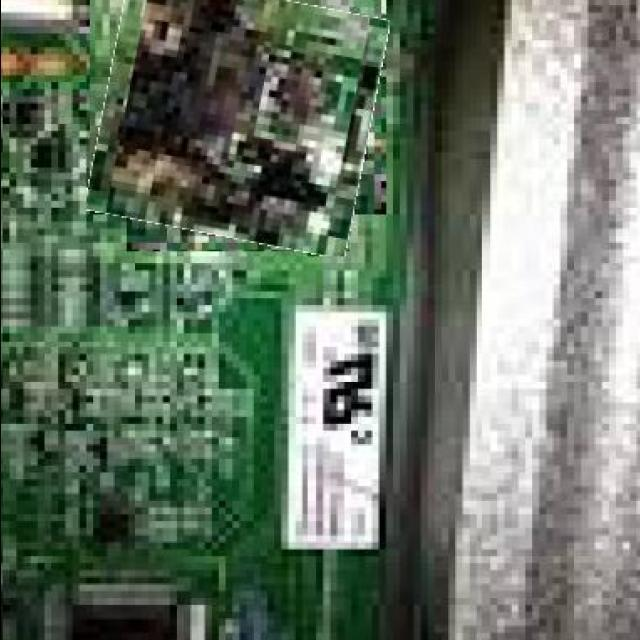Burn: (93, 0, 379, 246)
